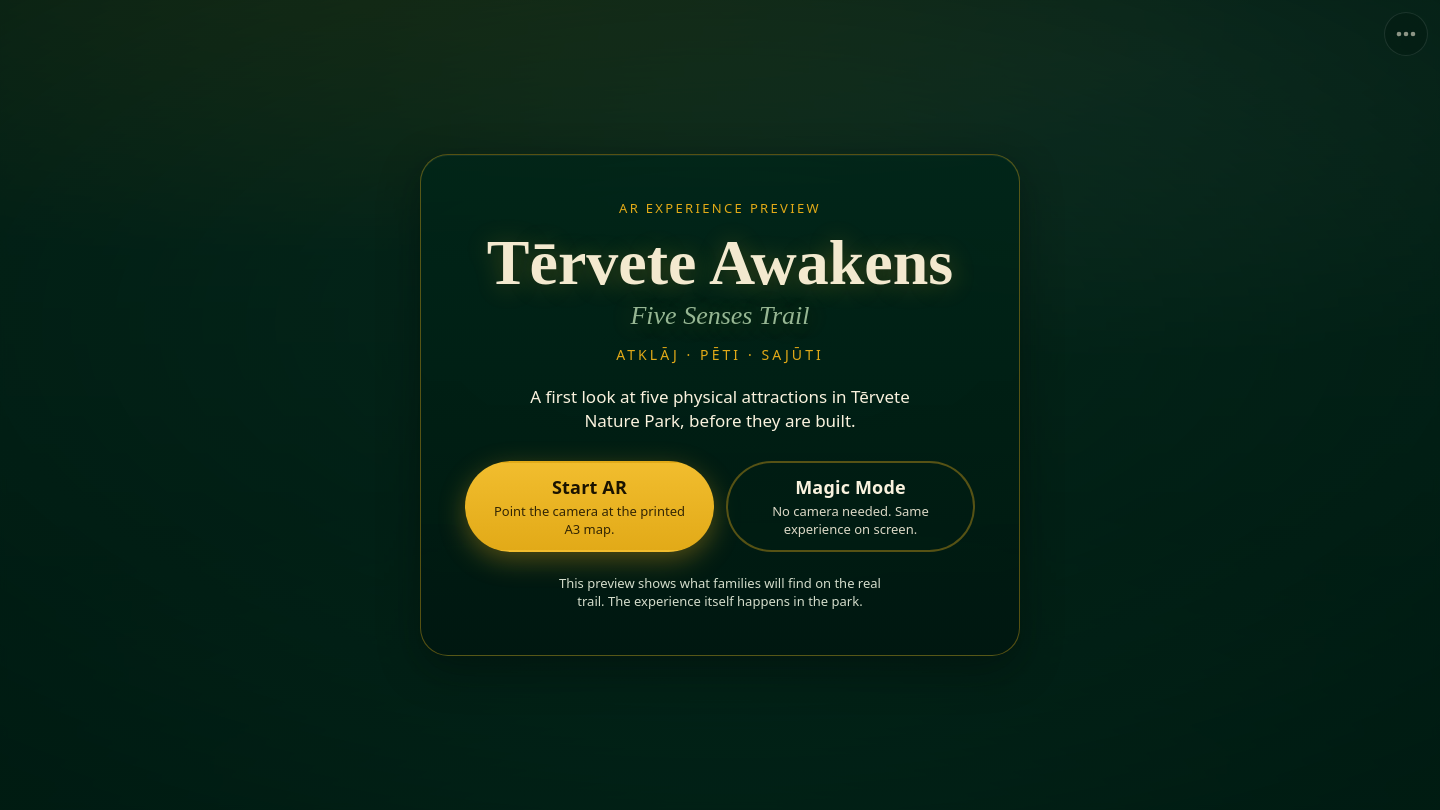
AR mode and its fallbacks › AR denied continues in Magic Mode with a message and no dead end
The image size is (1440, 810).
Later steps or results of the test are not shown.
Step 1. Click the button "Start AR Point the camera at the printed A3 map." → (590, 506), box [465,461,714,552]
Wait 50 ms
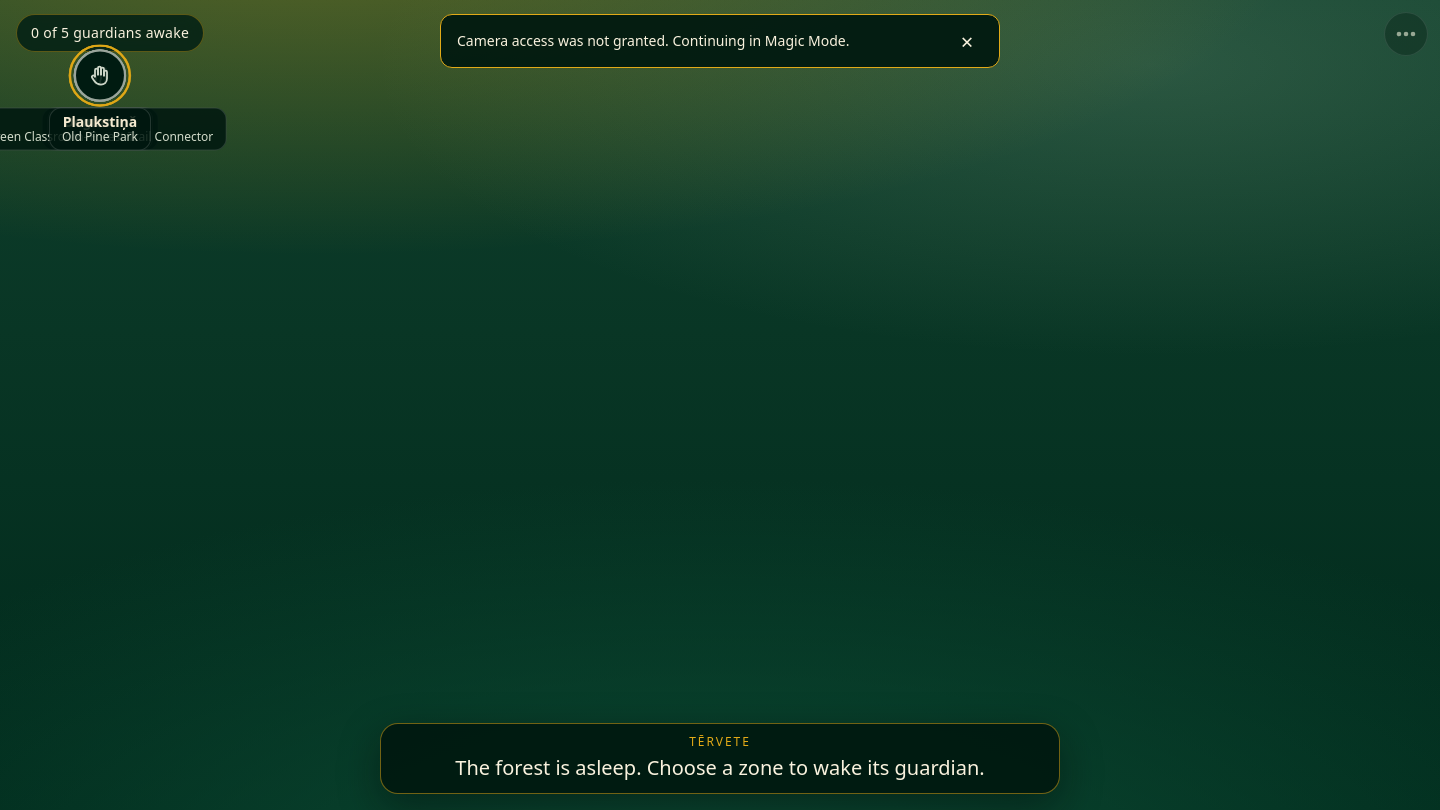
Now the text "Camera access was not granted. Continuing in Magic Mode." is shown, box [457,31,849,51]
Now the text "0 of 5 guardians awake" is shown, box [16,14,204,52]
